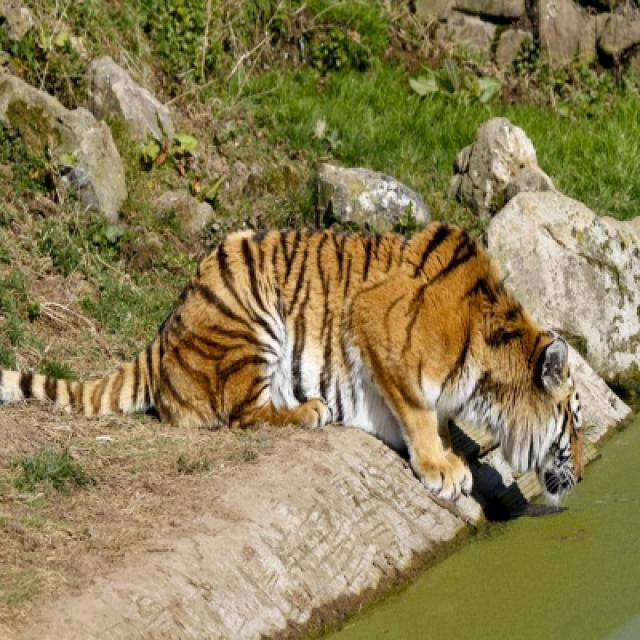Tiger: (1, 221, 583, 503)
